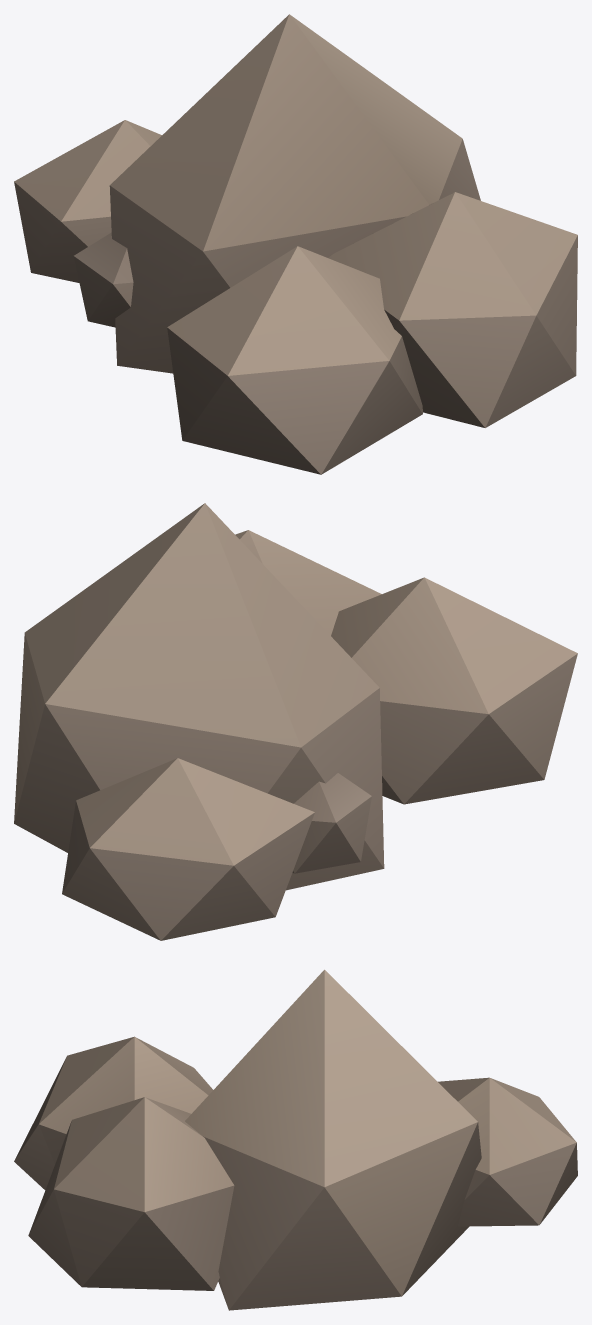
Rendered from rocks_5.glb.
3 renders of one model, top to bottom at view 1: azimuth 30°, elevation 25°; view 2: azimuth 150°, elevation 25°; view 3: azimuth 270°, elevation 25°, orthographic. The views are drawn at different scales.
Visible parts, largest first — view 1: rocks_5; view 2: rocks_5; view 3: rocks_5.
Boxes of the visible parts, bbox=[...] form: rocks_5: bbox=[14, 14, 577, 474]; rocks_5: bbox=[14, 503, 577, 940]; rocks_5: bbox=[14, 969, 577, 1310].
Size of the model in its own units: 3.42 by 2.52 by 4.8.
